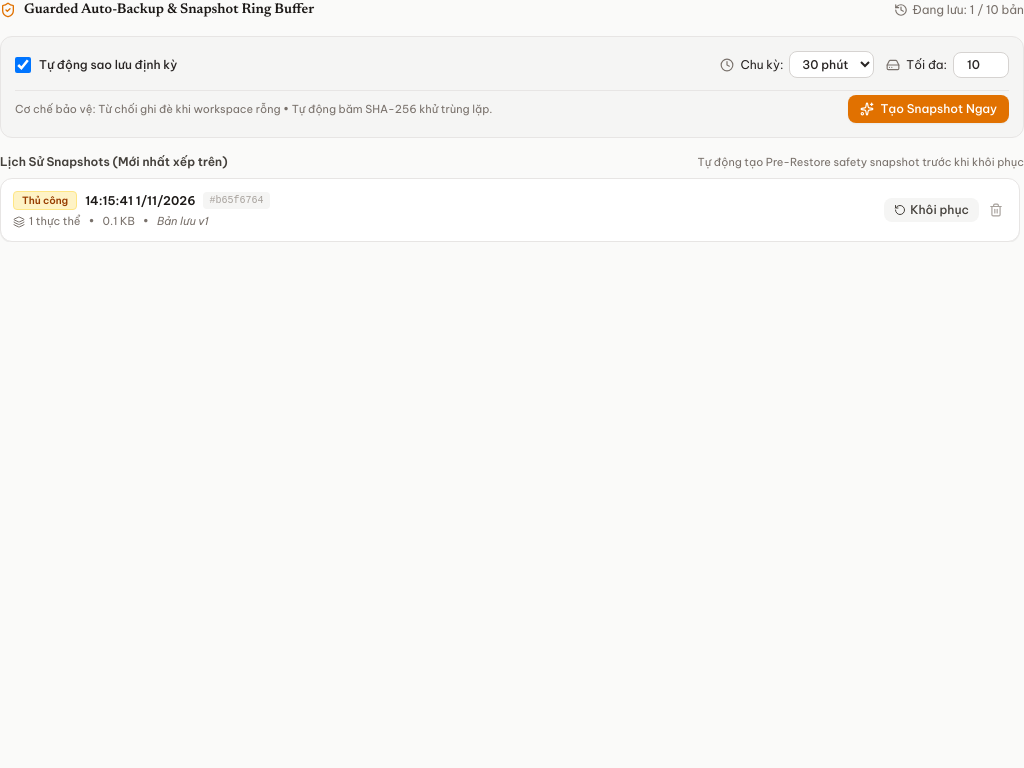
Test: PR 1 (Phase 25): Auto-Backup Restore Safety & Confirmation Gate › Test 3: When user clicks "Xác nhận khôi phục" in confirmation dialog, captures pre-restore safety snapshot and executes restore
The width and height of the screenshot is (1024, 768).
// Open confirmation modal
Click the button "Khôi phục" at coordinates (932, 210), box [884, 198, 979, 222]
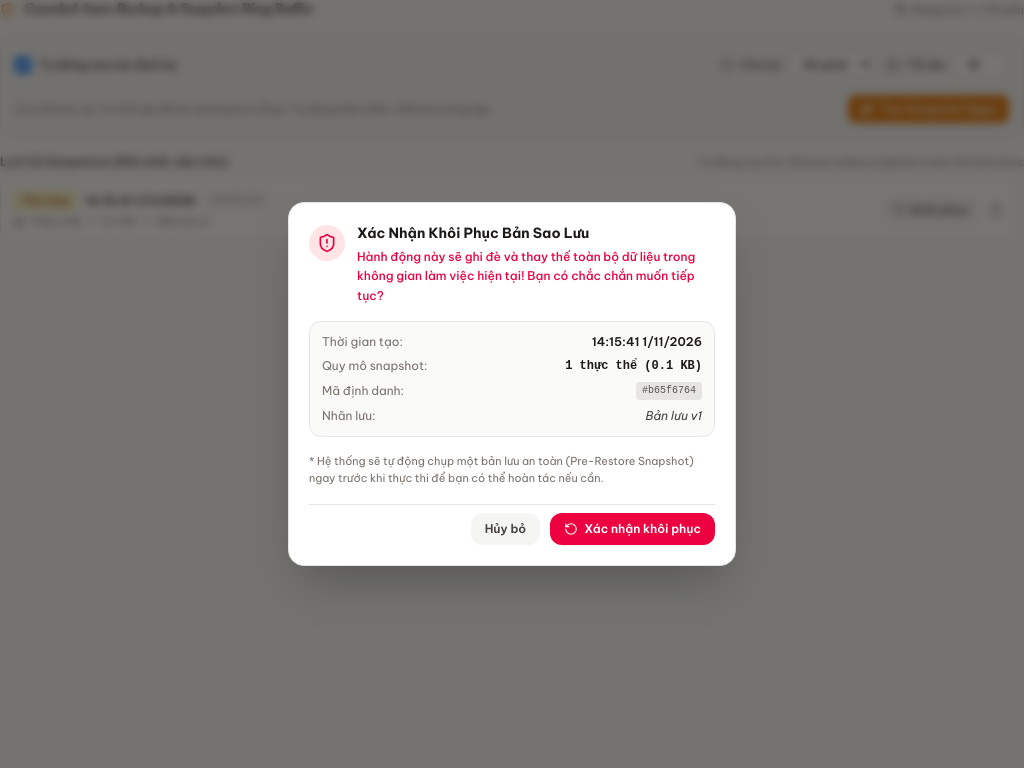
Result: the dialog with test id "auto-backup-restore-confirm-dialog" is shown
// Click confirm button
Click the button with test id "auto-backup-restore-confirm-btn" at coordinates (633, 529), box [550, 513, 715, 545]
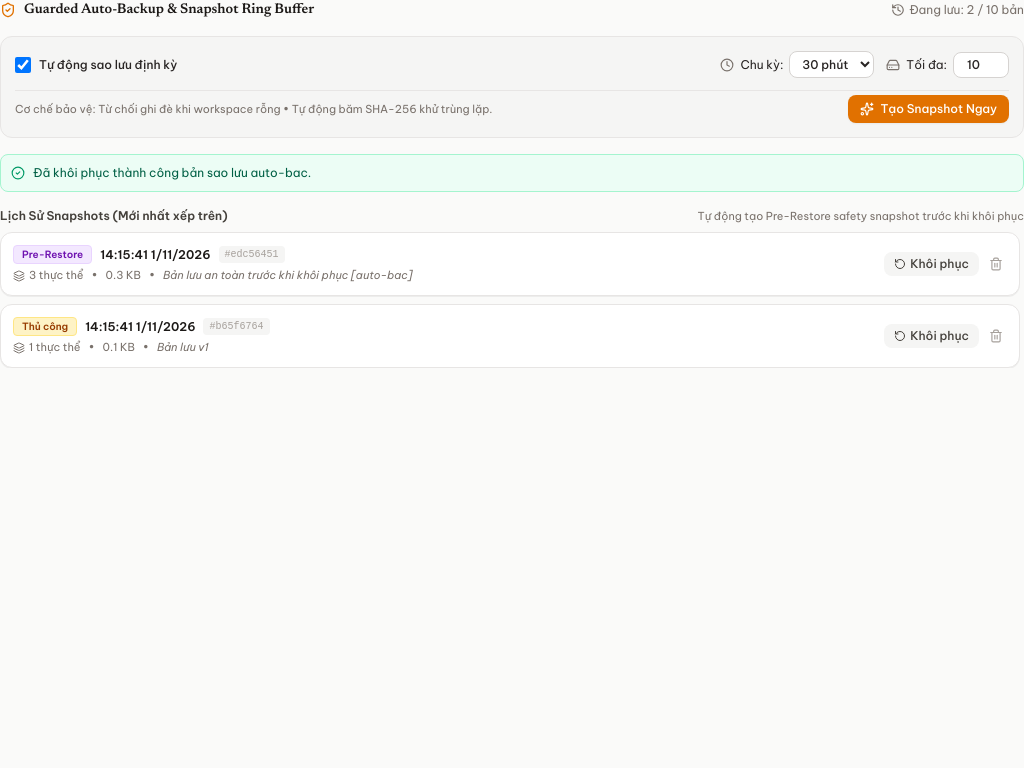
Result: the dialog with test id "auto-backup-restore-confirm-dialog" is gone
